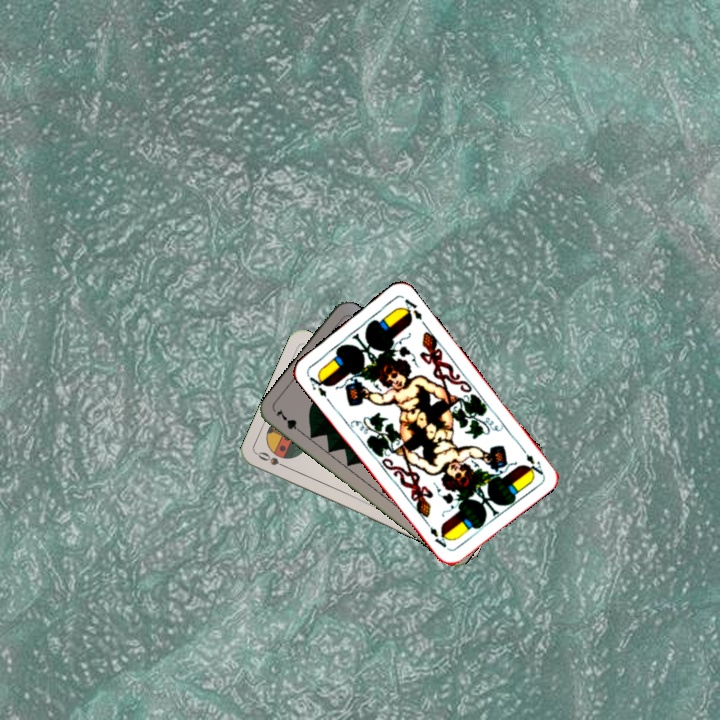EA: (305, 370, 330, 400), (522, 450, 546, 478)
G7: (271, 405, 307, 437)
SO: (253, 447, 292, 472)
